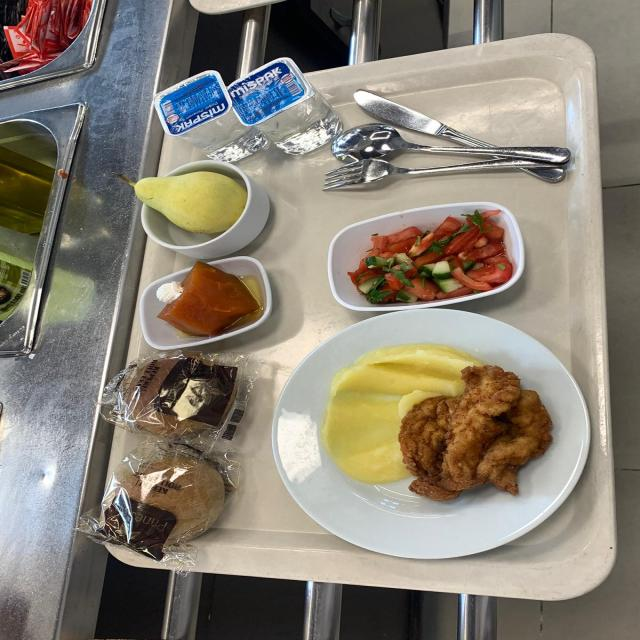ana_yemek: (318, 332, 558, 571)
yan_yemek: (332, 206, 532, 320), (145, 260, 284, 356), (124, 172, 280, 253)
